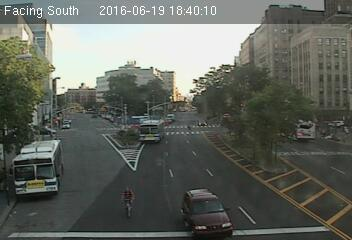neg: (113, 181, 141, 218)
pos: (184, 124, 194, 136)
